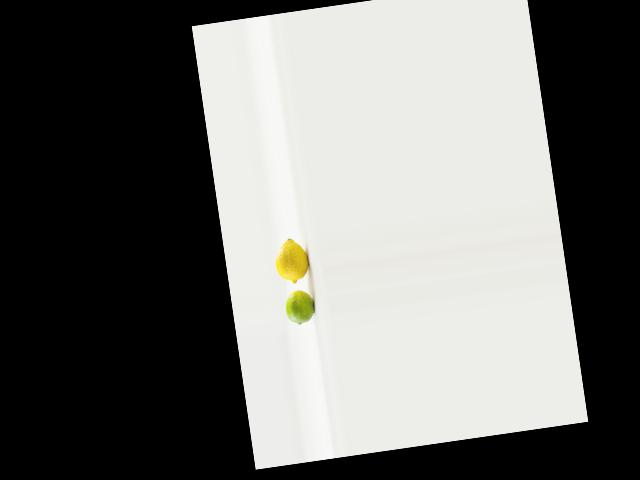lemon: (270, 236, 311, 283)
